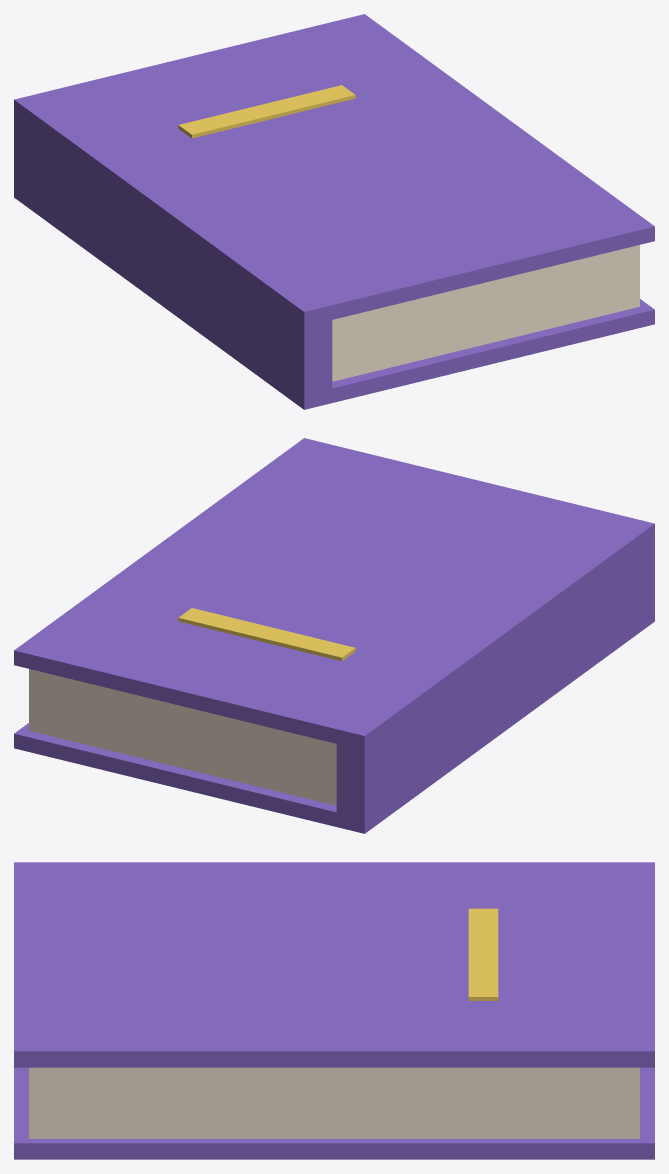
Rendered from book.glb.
3 views of the same model, one above another, from view 1: azimuth 30°, elevation 25°; view 2: azimuth 150°, elevation 25°; view 3: azimuth 270°, elevation 25° (orthographic). The views are drawn at different scales.
Parts seen in each view (by area): view 1: prop_book; view 2: prop_book; view 3: prop_book.
Boxes of the visible parts, left/top/right/bottom form: prop_book: left=14, top=14, right=654, bottom=409; prop_book: left=14, top=438, right=654, bottom=833; prop_book: left=14, top=862, right=654, bottom=1159.
Bounding box in the file's own units: 0.15 × 0.0415 × 0.215.
